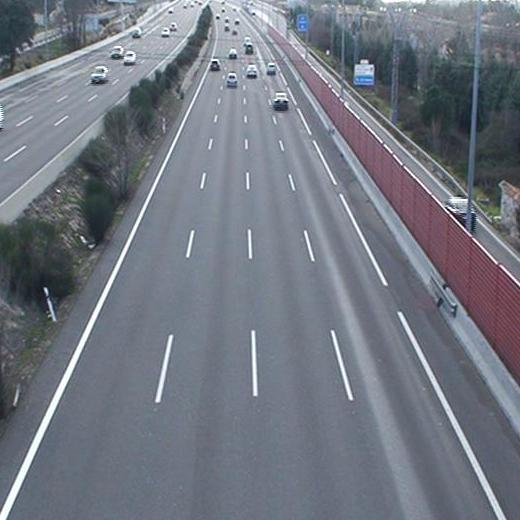car: (271, 91, 290, 110), (226, 71, 238, 88), (265, 62, 279, 76), (246, 65, 260, 79), (209, 59, 220, 72)
